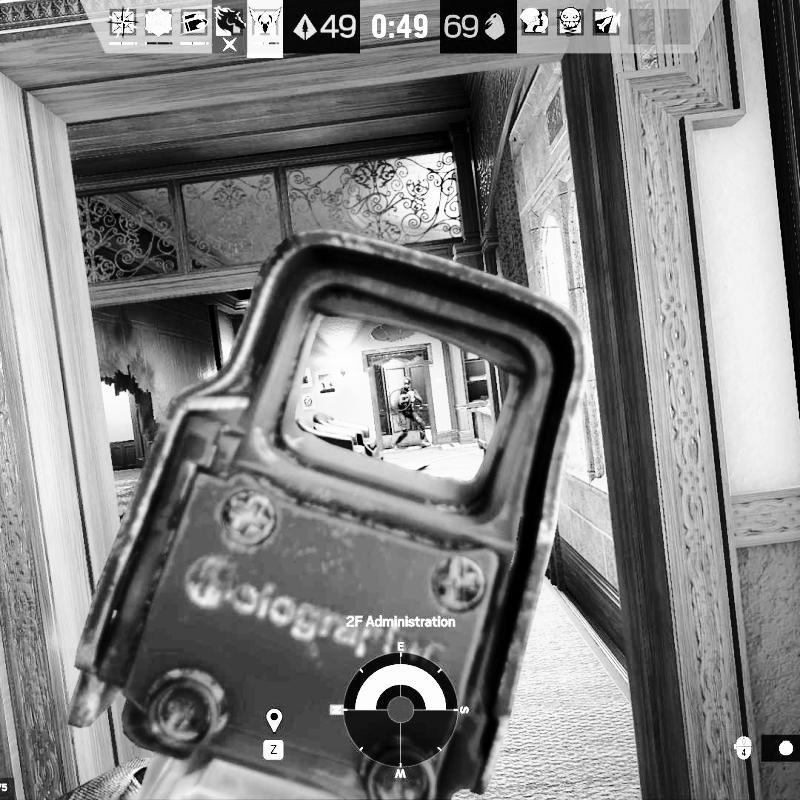Character: (390, 377, 432, 451)
Head: (401, 378, 412, 390)
